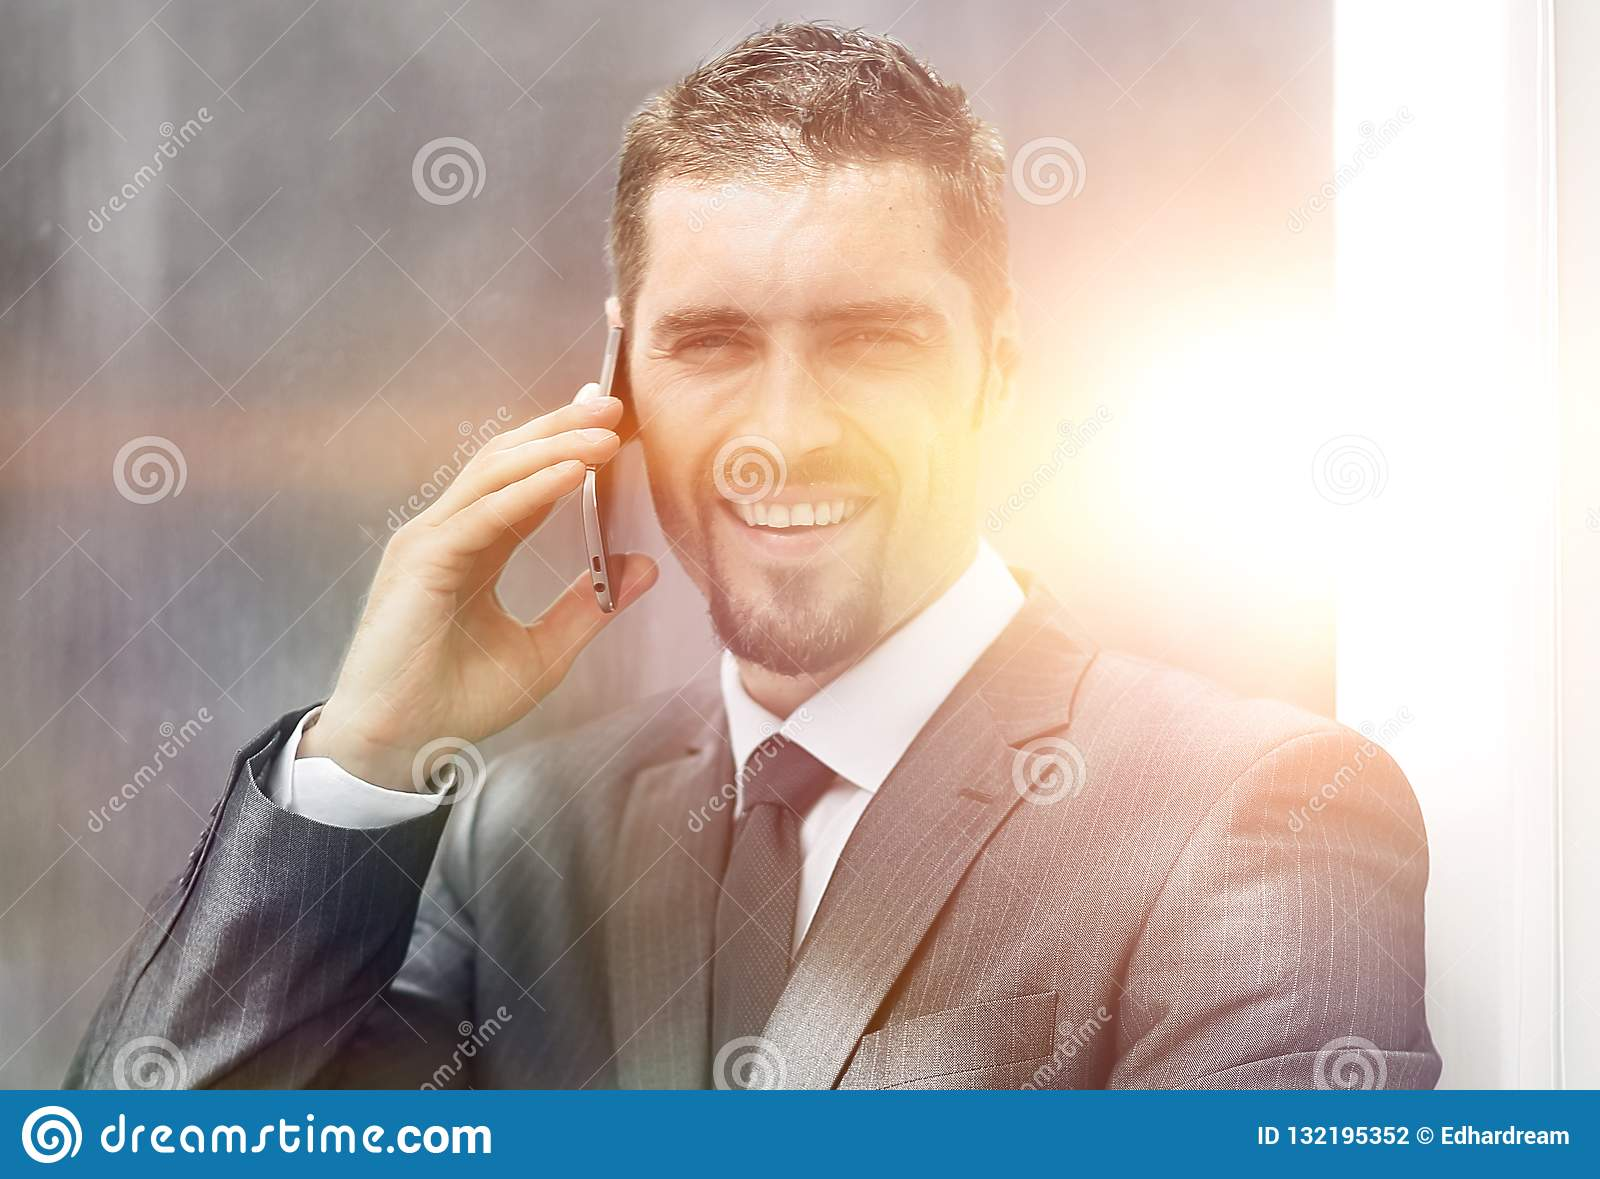phone: (568, 270, 648, 622)
talk: (340, 256, 957, 727)
